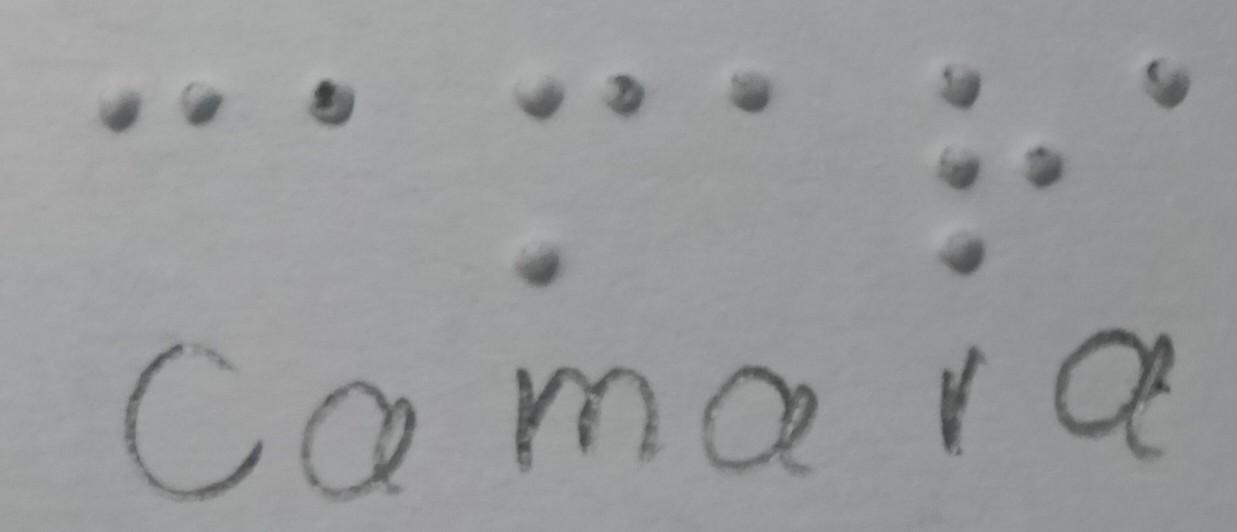a: (681, 46, 827, 166), (264, 49, 393, 169), (1083, 36, 1221, 126)
c: (96, 61, 243, 160)
m: (469, 47, 670, 296)
r: (914, 43, 1069, 287)
